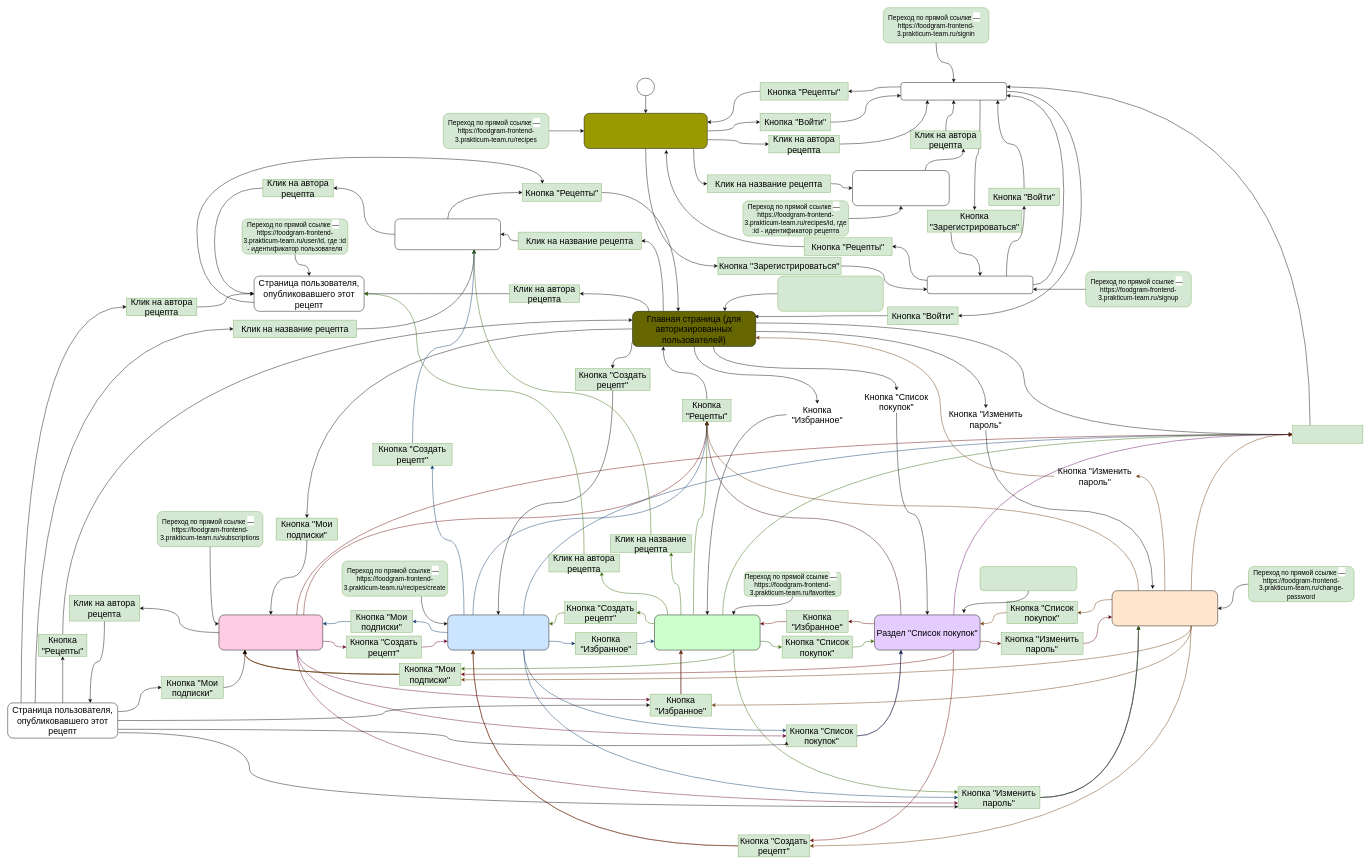
Some shapes in this 1371 by 865 pixel diagram are drawn without their labels. Here are the shapes that lost their labels. From the top down, the centre of each, then its label:
pixel 953 91: Форма "Авторизация"
pixel 645 130: Главная страница (для неавторизированных пользователей)
pixel 900 188: Карточка рецепта (для неавторизированных пользователей)
pixel 447 234: Карточка рецепта (для авторизированных пользователей)
pixel 830 293: Переход по прямой ссылке — https://foodgram-frontend-3.prakticum-team.ru
pixel 980 285: Форма "Регистрация"
pixel 1327 434: Кнопка "Выход"
pixel 1028 578: Переход по прямой ссылке — https://foodgram-frontend-3.prakticum-team.ru/cart
pixel 1165 608: Форма "Смена пароля"
pixel 270 632: Раздел "Мои подписки"
pixel 498 632: Раздел "Создать рецепт"
pixel 707 632: Раздел "Избранное"
